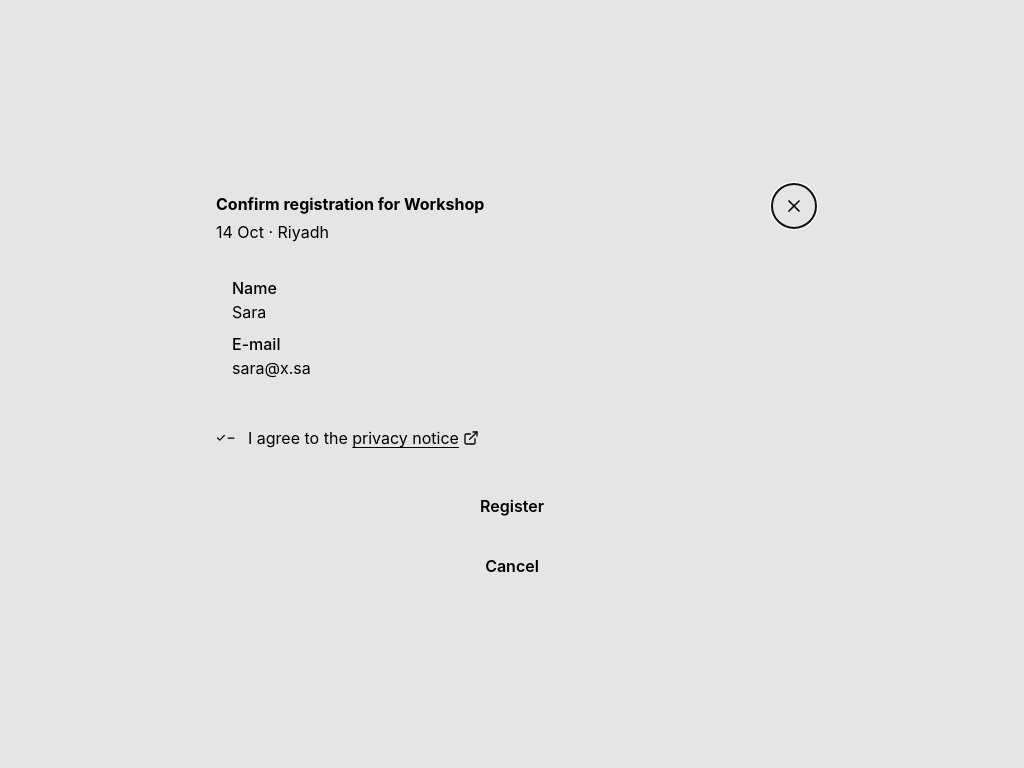
Test: registration dialog › members get a read-only confirm and the member action
Expected: the text "sara@x.sa" is shown, [232,358,311,378]
Click the checkbox at (361, 444), box [216,428,505,460]
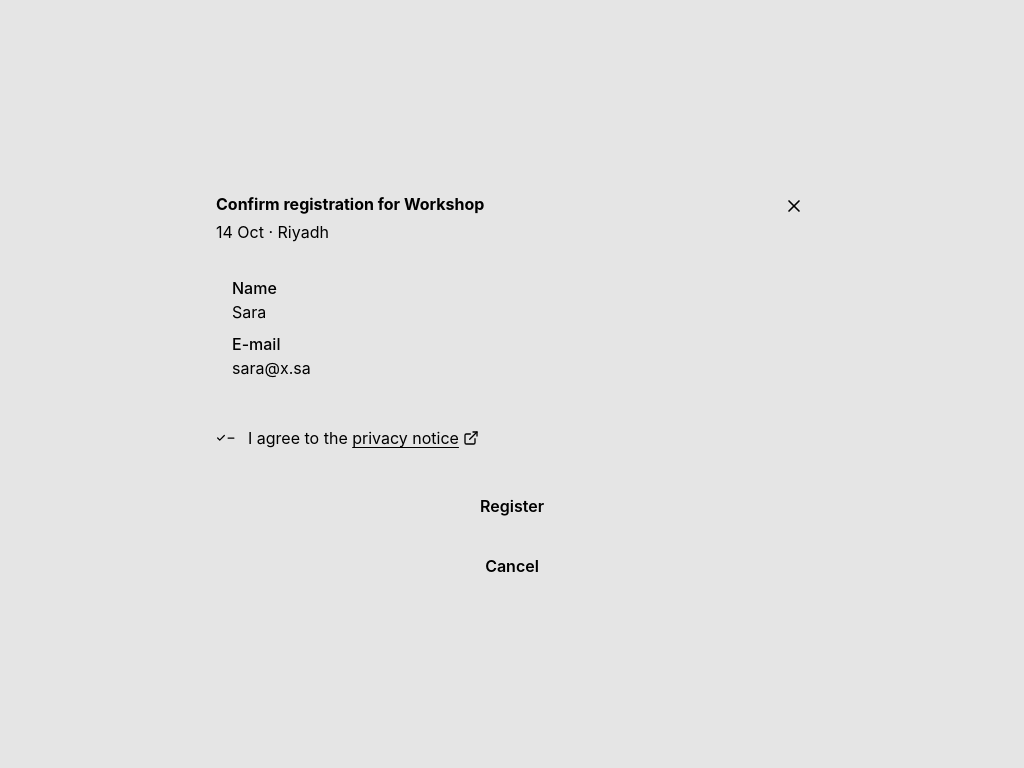
Click the button "Register" at (512, 506), box [216,480,808,532]
Wait 5100 ms
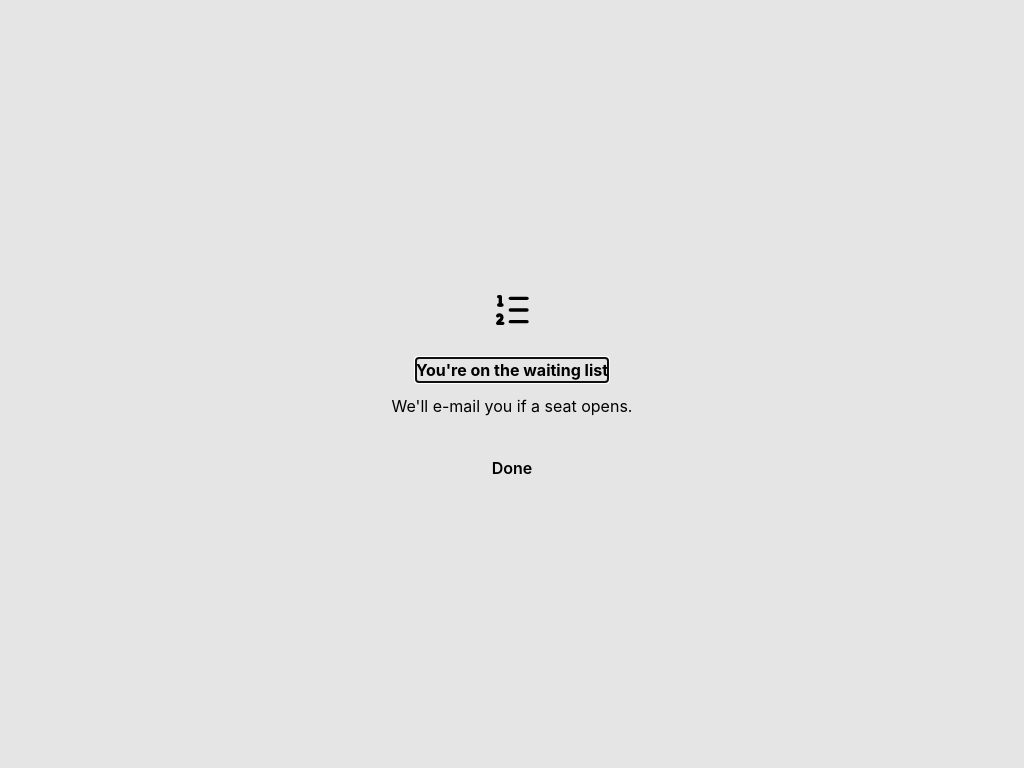
Result: the heading "You're on the waiting list" is shown at [416,358,608,382]
